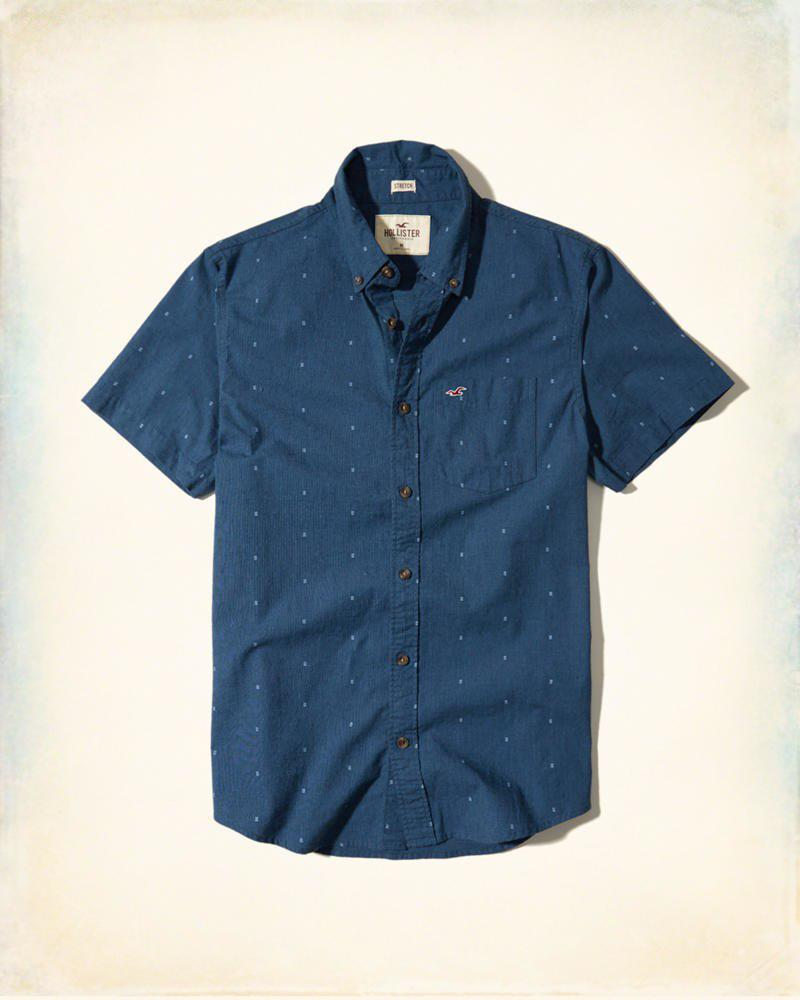teeshirt: (80, 142, 739, 863)
